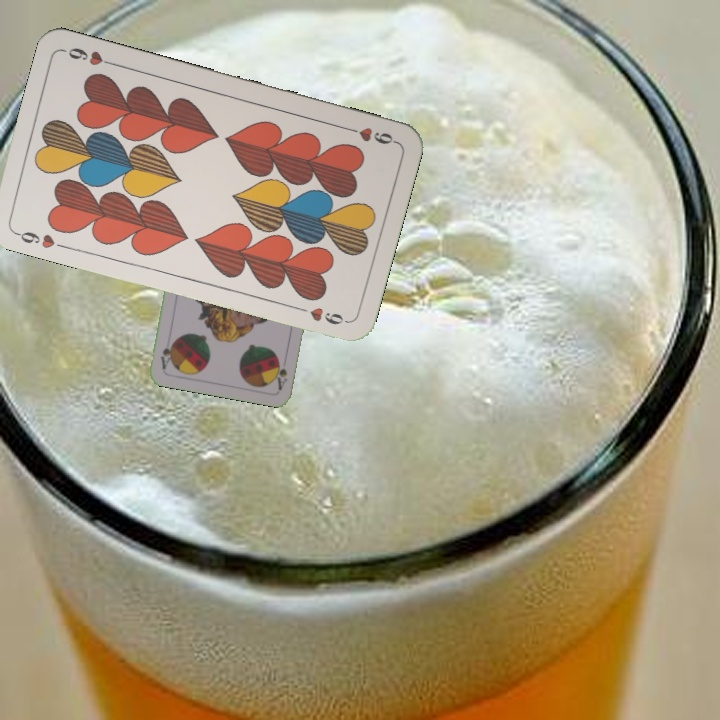H9: (340, 122, 398, 147), (10, 227, 57, 251)
SA: (273, 357, 290, 392)
